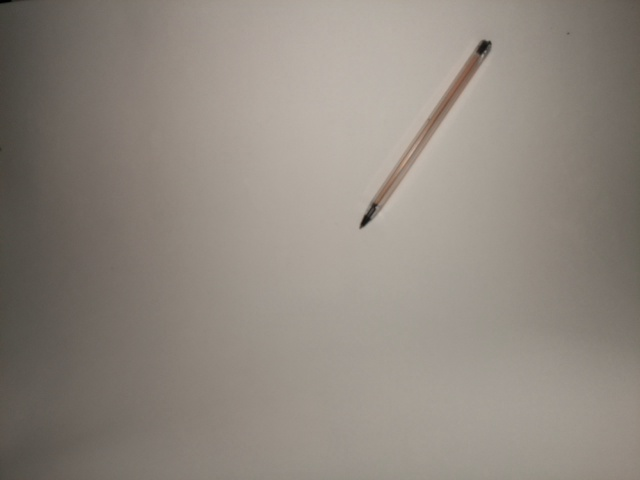Caneta: (332, 27, 498, 242)
